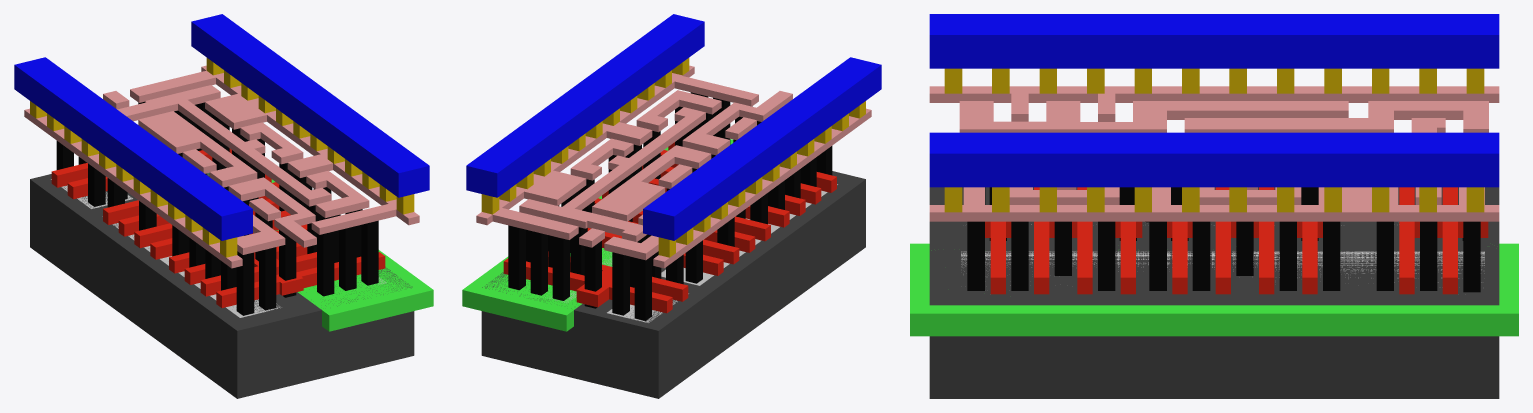
File: sky130_fd_sc_hd__o221ai_2.obj
3 views of the same model, side by side, from view 1: azimuth 30°, elevation 25°; view 2: azimuth 150°, elevation 25°; view 3: azimuth 270°, elevation 25° (orthographic). The views are drawn at different scales.
Parts seen in each view (by area): view 1: subs, metal1, li, licon, poly, nwell, mcon, diff; view 2: subs, metal1, li, licon, poly, mcon, nwell, diff; view 3: metal1, subs, li, nwell, licon, poly, mcon, tap.
Part boxes in pixels (bbox=[...]): subs: bbox=[30, 172, 414, 398]; metal1: bbox=[14, 14, 429, 240]; li: bbox=[24, 65, 419, 268]; licon: bbox=[56, 101, 378, 315]; poly: bbox=[51, 148, 385, 307]; nwell: bbox=[208, 173, 433, 331]; mcon: bbox=[30, 58, 414, 257]; diff: bbox=[51, 179, 281, 317]; subs: bbox=[481, 171, 865, 398]; metal1: bbox=[466, 14, 881, 240]; li: bbox=[476, 65, 871, 268]; licon: bbox=[508, 92, 832, 320]; poly: bbox=[503, 142, 836, 313]; mcon: bbox=[481, 58, 865, 257]; nwell: bbox=[462, 139, 733, 331]; diff: bbox=[607, 184, 837, 322]; metal1: bbox=[929, 14, 1499, 187]; subs: bbox=[929, 187, 1499, 398]; li: bbox=[929, 86, 1499, 221]; nwell: bbox=[910, 243, 1518, 336]; licon: bbox=[967, 187, 1480, 292]; poly: bbox=[985, 187, 1488, 294]; mcon: bbox=[944, 68, 1484, 212]; tap: bbox=[961, 251, 1484, 285].
Bounding box in the file's own units: 3.2 × 2.74 × 5.9.
